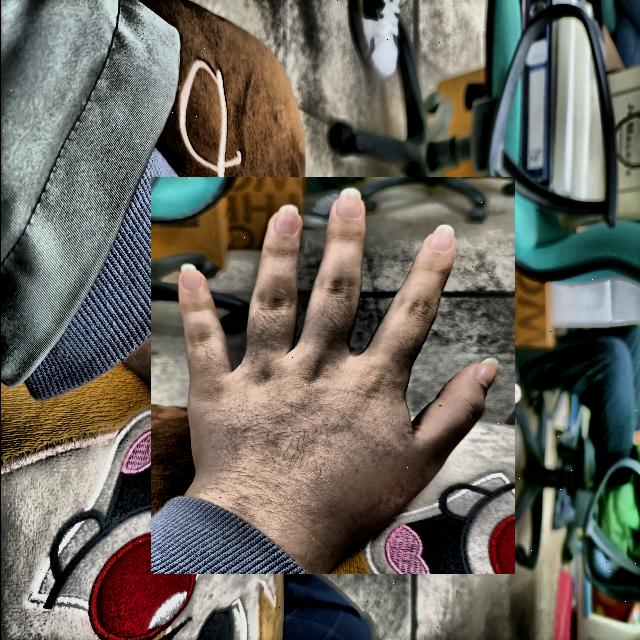not-gloved: (142, 185, 523, 566)
